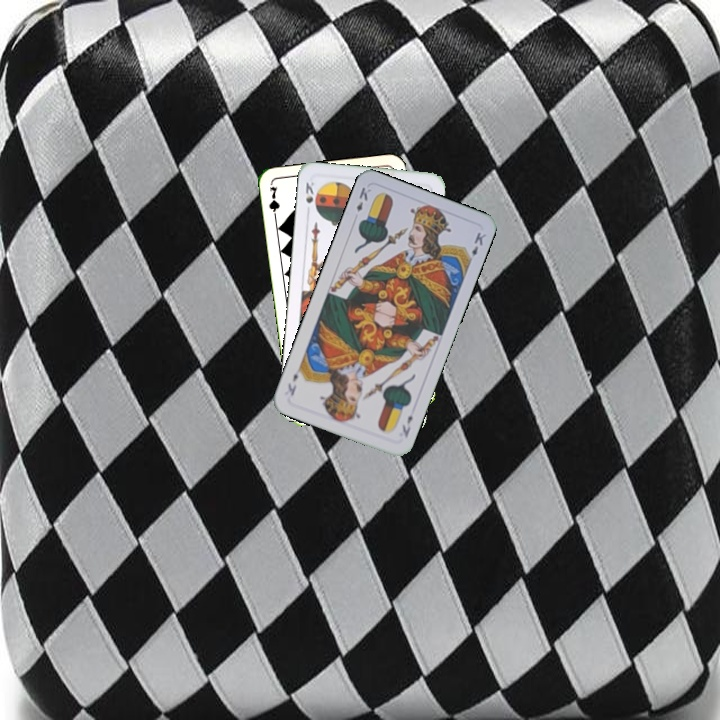EK: (352, 183, 374, 215), (398, 411, 415, 440)
G7: (265, 182, 282, 223)
SK: (301, 178, 317, 206)
